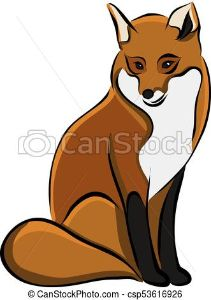fox: (4, 3, 208, 286)
